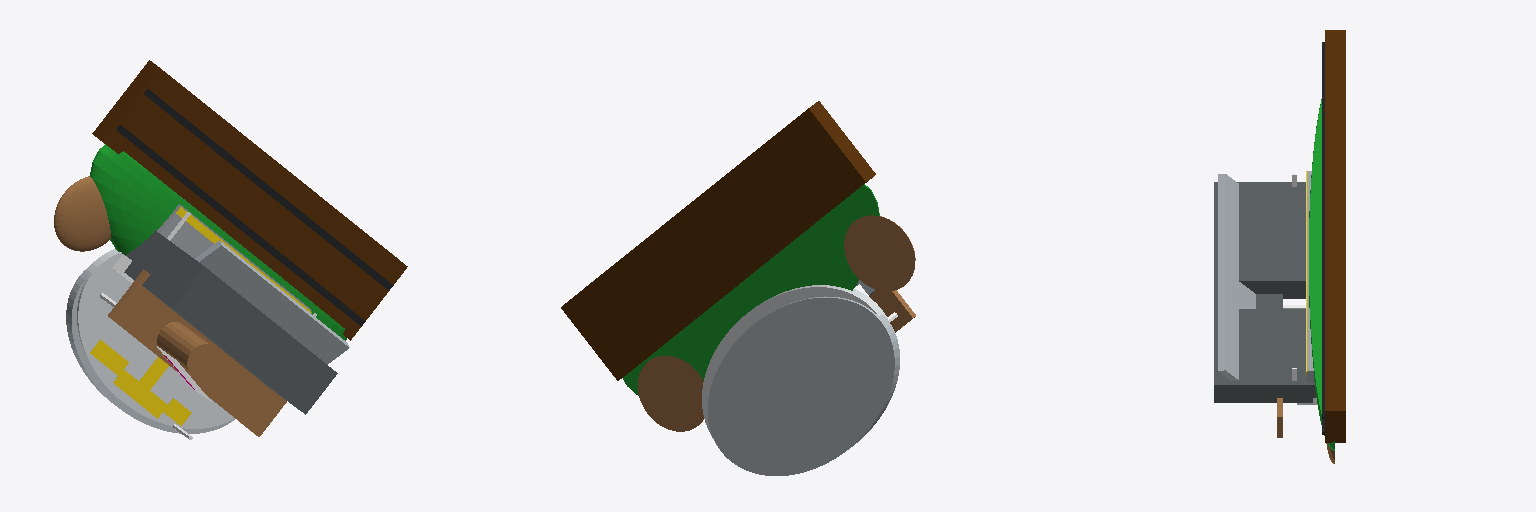
Rendered from tinker.obj.
3 renders of one model, left to right at view 1: azimuth 30°, elevation 25°; view 2: azimuth 150°, elevation 25°; view 3: azimuth 270°, elevation 25°, orthographic.
Parts seen in each view (by area): view 1: obj_0; view 2: obj_0; view 3: obj_0.
Part boxes in pixels (x1,y1,x2,y2): obj_0: (54, 60, 407, 439); obj_0: (561, 101, 915, 475); obj_0: (1214, 30, 1345, 463).
Size of the model in its own units: 63.8 by 66.3 by 20.86.